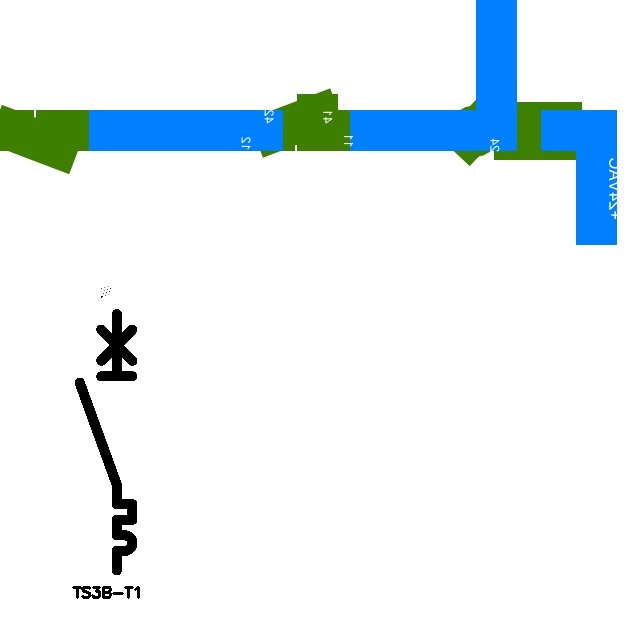interruptor_termomagnetico: (73, 307, 139, 576)
